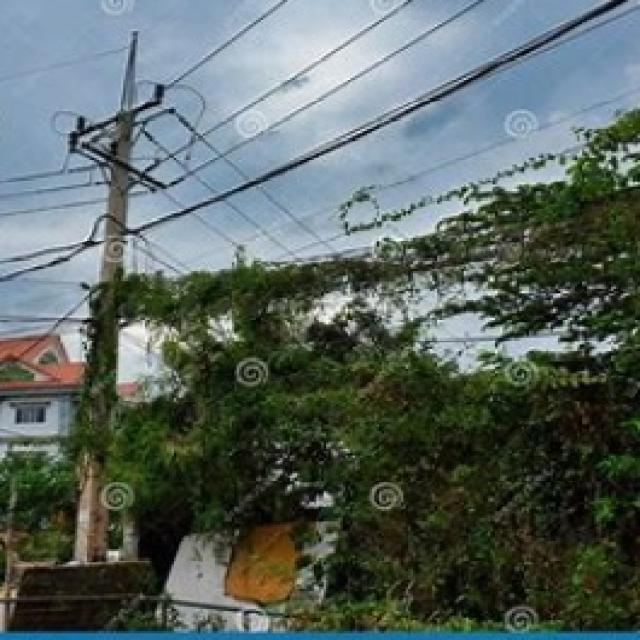critical vegetation: (115, 232, 639, 352)
